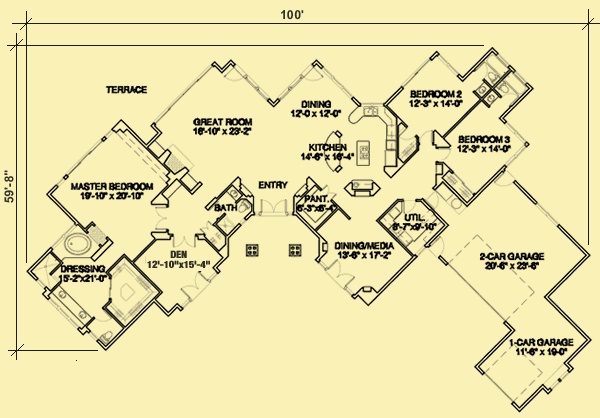door: (178, 270, 214, 302), (326, 257, 356, 289), (259, 197, 289, 219), (152, 203, 172, 234), (169, 233, 201, 249), (301, 65, 326, 83), (222, 64, 243, 84), (492, 171, 515, 189), (429, 235, 446, 258), (95, 307, 112, 325), (427, 189, 441, 209)
kitchen bar: (321, 130, 345, 173), (354, 138, 372, 168)
large sink: (98, 330, 114, 345), (238, 198, 251, 216), (499, 82, 514, 97), (487, 71, 498, 84)
small sink: (54, 287, 91, 327), (225, 183, 241, 198), (475, 85, 489, 96), (485, 92, 495, 107)
tub: (60, 230, 95, 258)
windows: (397, 56, 429, 91), (533, 198, 561, 230), (504, 118, 532, 146), (435, 53, 463, 78), (549, 368, 575, 392)
